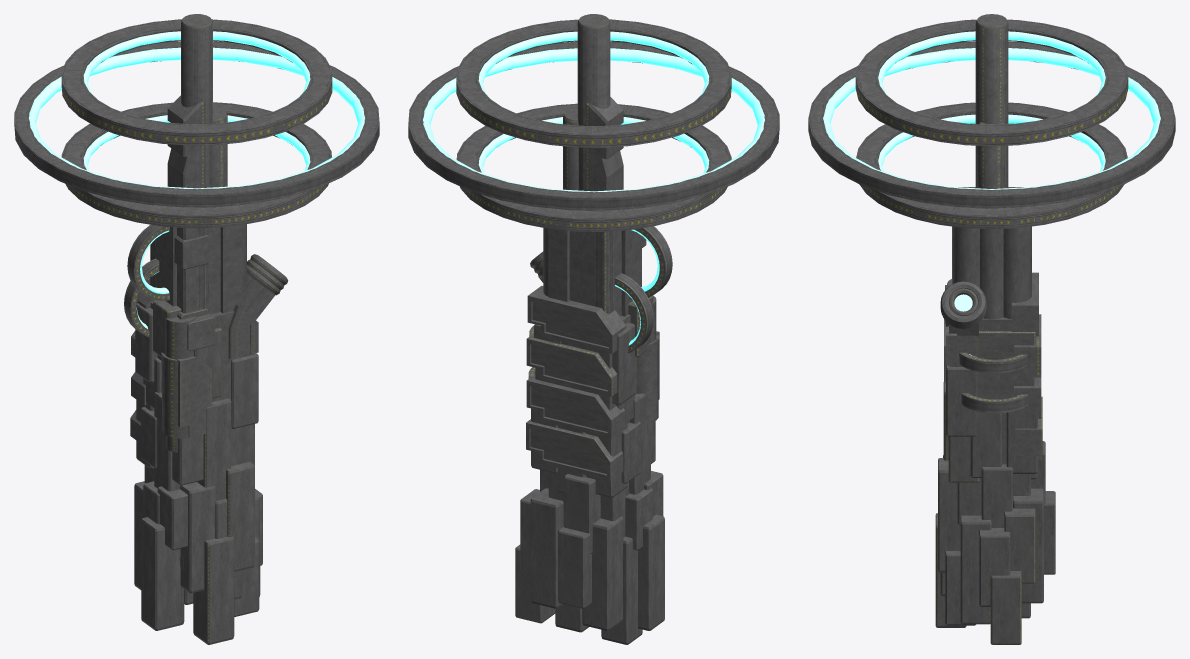
The model's file is tower2.fbx.
3 views of the same model, side by side, from view 1: azimuth 30°, elevation 25°; view 2: azimuth 150°, elevation 25°; view 3: azimuth 270°, elevation 25° (orthographic).
Parts seen in each view (by area): view 1: TowerMain, FloatingCricles, TowerBase, Emissive; view 2: TowerMain, FloatingCricles, TowerBase, Emissive; view 3: FloatingCricles, TowerMain, TowerBase, Emissive.
Boxes of the visible parts, x1=… form: TowerMain: x1=124, y1=14, x2=288, y2=500; FloatingCricles: x1=14, y1=19, x2=379, y2=228; TowerBase: x1=134, y1=461, x2=262, y2=644; Emissive: x1=29, y1=31, x2=364, y2=328; TowerMain: x1=526, y1=14, x2=672, y2=497; FloatingCricles: x1=408, y1=19, x2=779, y2=231; TowerBase: x1=515, y1=470, x2=664, y2=644; Emissive: x1=423, y1=31, x2=764, y2=345; FloatingCricles: x1=808, y1=19, x2=1175, y2=229; TowerMain: x1=940, y1=14, x2=1042, y2=482; TowerBase: x1=935, y1=441, x2=1055, y2=644; Emissive: x1=823, y1=31, x2=1160, y2=395.
Bounding box in the file's own units: 86793 × 157119 × 86793.
